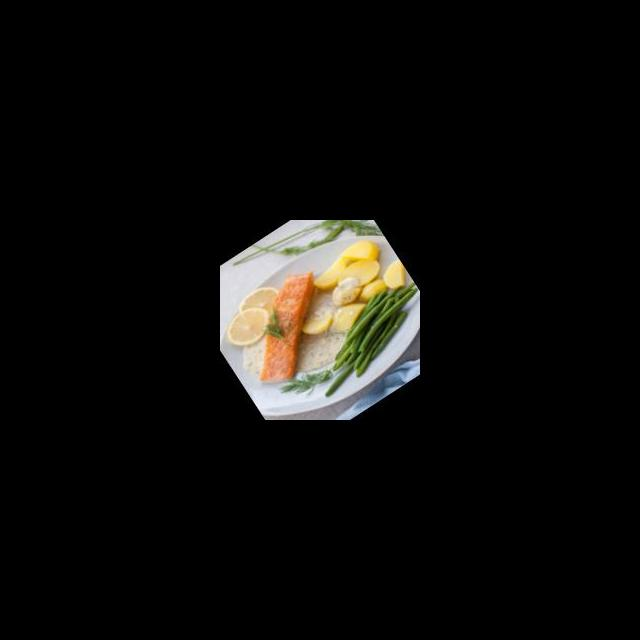ca hoi: (268, 272, 314, 389)
ca hoi sot pho mai kem: (223, 269, 407, 409)
pho mai: (302, 327, 351, 372), (237, 343, 266, 374)
